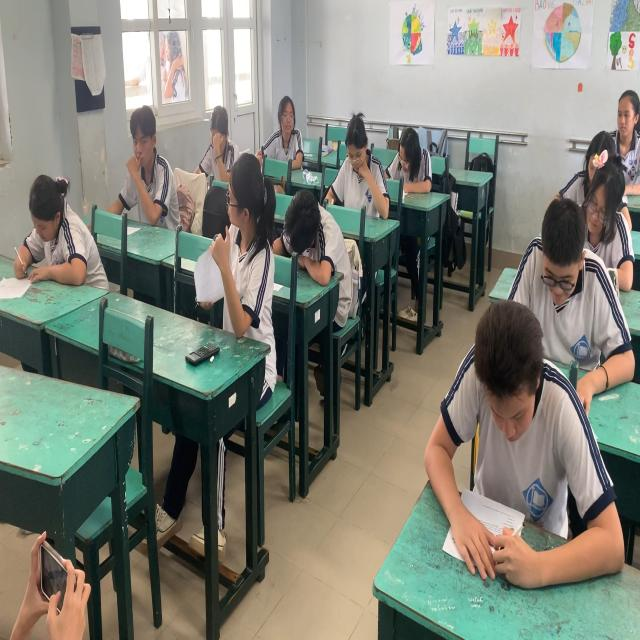cheating: (219, 164, 278, 343)
not_cheating: (441, 319, 605, 589), (525, 194, 606, 409), (11, 167, 101, 291), (110, 109, 180, 232), (336, 115, 392, 225), (586, 160, 636, 278), (276, 194, 336, 274), (387, 125, 435, 198), (265, 91, 301, 174), (206, 101, 231, 190), (610, 84, 639, 146)
